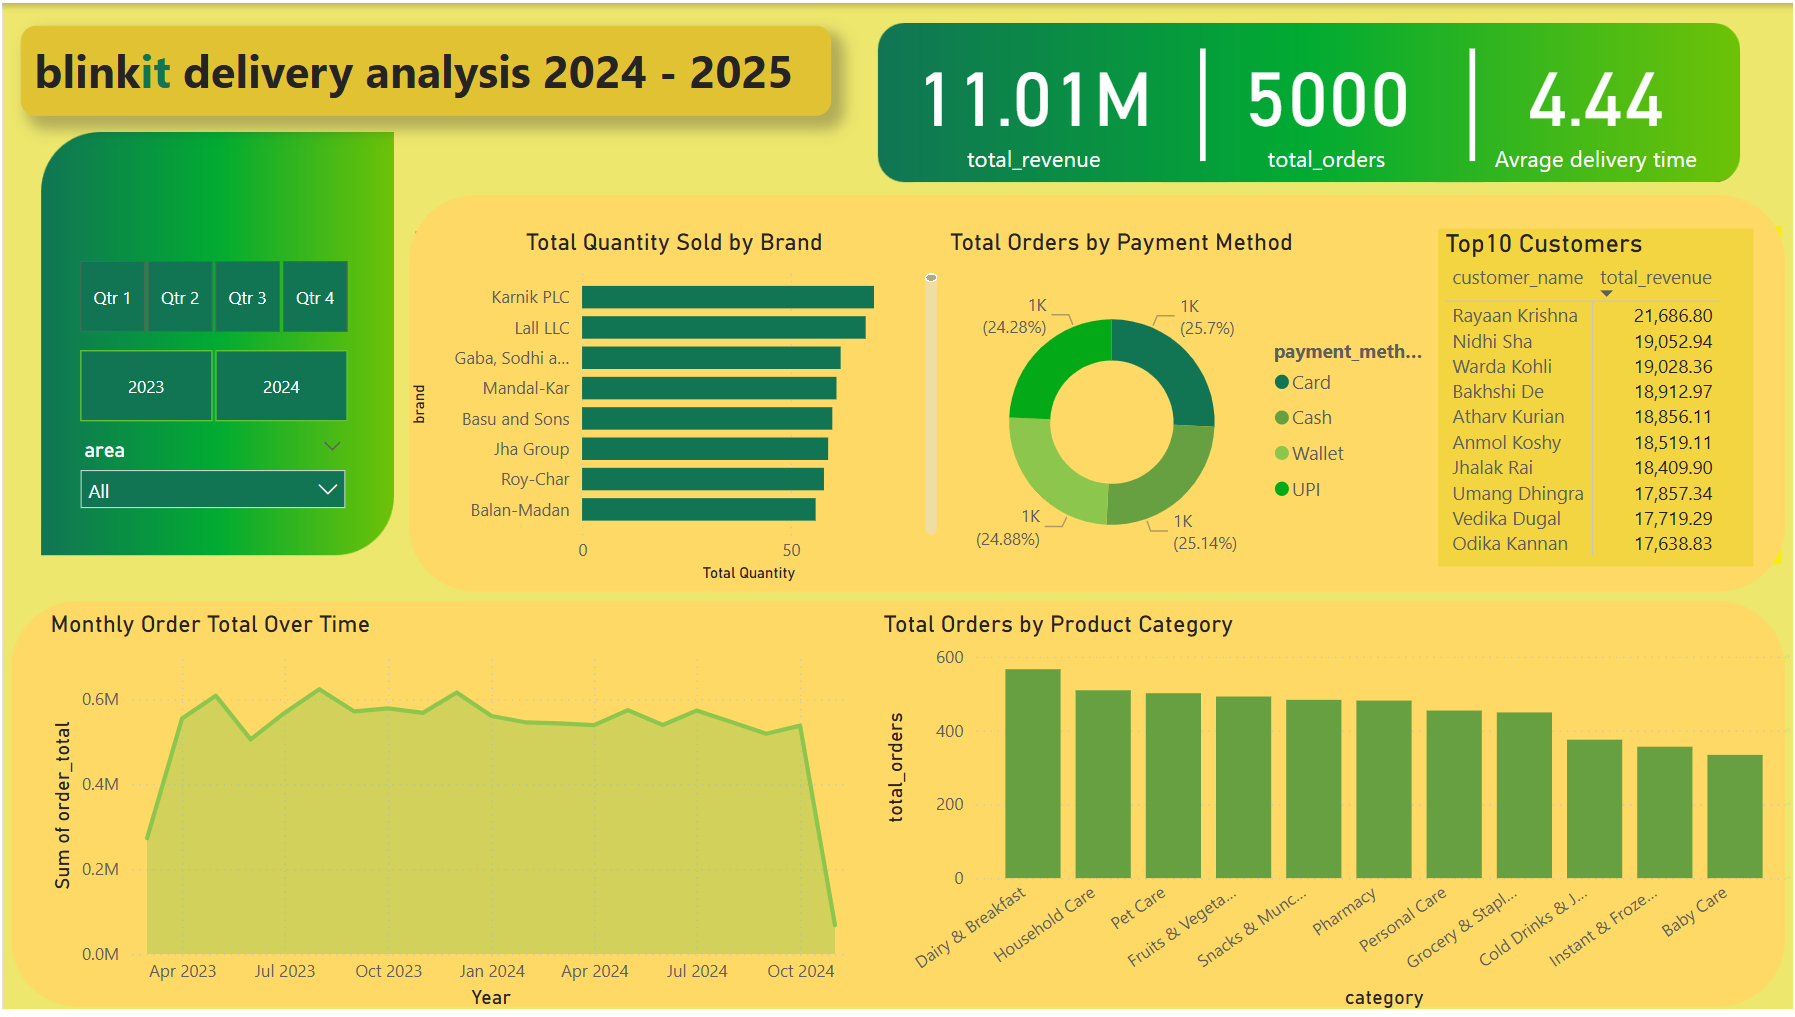

The page's visual inventory and layout, read from the dashboard file:
{"tool":"powerbi","page":{"name":"Dashboard 1","canvas":[1280,720],"ordinal":0},"visuals":[{"type":"card","fields":{"Values":["Measure Table.total_revenue"]},"box":[624,16,224,112],"z":0},{"type":"card","fields":{"Values":["Measure Table.total_orders"]},"box":[848,16,192,112],"z":1000},{"type":"card","fields":{"Values":["Measure Table.Avrage delivery time"]},"box":[1040,16,192,112],"z":2000},{"type":"lineChart","title":"Monthly Order Total Over Time","fields":{"Category":["blinkit_orders.order_date.Variation.Date Hierarchy.Year","blinkit_orders.order_date.Variation.Date Hierarchy.Month"],"Y":["Sum(blinkit_orders.order_total)"]},"box":[32,432,592,288],"z":3000},{"type":"clusteredColumnChart","title":"Total Orders by Product Category","fields":{"Category":["blinkit_products.category"],"Y":["Measure Table.total_orders"]},"box":[624,432,656,288],"z":4000},{"type":"donutChart","title":"Total Orders by Payment Method","fields":{"Category":["blinkit_orders.payment_method"],"Y":["Measure Table.total_orders"]},"box":[672,160,352,256],"z":5000},{"type":"barChart","title":"Total Quantity Sold by Brand","fields":{"Y":["Measure Table.Total Quantity"],"Category":["blinkit_products.brand"]},"box":[288,160,384,256],"z":6000},{"type":"pivotTable","title":"Top10 Customers ","fields":{"Rows":["blinkit_customers.customer_name"],"Values":["Measure Table.total_revenue"]},"box":[1024,160,224,240],"z":7000},{"type":"slicer","fields":{"Values":["blinkit_orders.Date.Variation.Date Hierarchy.Year"]},"box":[32,240,240,64],"z":8000},{"type":"slicer","fields":{"Values":["blinkit_orders.Date.Variation.Date Hierarchy.Quarter"]},"box":[32,176,240,64],"z":9000},{"type":"slicer","fields":{"Values":["blinkit_customers.area"]},"box":[48,304,208,80],"z":10000},{"type":"textbox","box":[16,16,576,64],"z":11000},{"type":"shape","box":[736,32,240,80],"z":12000},{"type":"shape","box":[928,32,240,80],"z":13000}]}

Visuals, with their boxes in screenshot pixels (x1, y1, x2, y2), scaled from the page's 1280x720 canvas onto the 1795x1017 screenshot:
card - Measure Table.total_revenue: x1=875, y1=23, x2=1189, y2=181
card - Measure Table.total_orders: x1=1189, y1=23, x2=1458, y2=181
card - Measure Table.Avrage delivery time: x1=1458, y1=23, x2=1728, y2=181
"Monthly Order Total Over Time" lineChart: x1=45, y1=610, x2=875, y2=1016
"Total Orders by Product Category" clusteredColumnChart: x1=875, y1=610, x2=1794, y2=1016
"Total Orders by Payment Method" donutChart: x1=942, y1=226, x2=1436, y2=588
"Total Quantity Sold by Brand" barChart: x1=404, y1=226, x2=942, y2=588
"Top10 Customers " pivotTable: x1=1436, y1=226, x2=1750, y2=565
slicer - blinkit_orders.Date.Variation.Date Hierarchy.Year: x1=45, y1=339, x2=381, y2=429
slicer - blinkit_orders.Date.Variation.Date Hierarchy.Quarter: x1=45, y1=249, x2=381, y2=339
slicer - blinkit_customers.area: x1=67, y1=429, x2=359, y2=542
textbox: x1=22, y1=23, x2=830, y2=113
shape: x1=1032, y1=45, x2=1369, y2=158
shape: x1=1301, y1=45, x2=1638, y2=158
